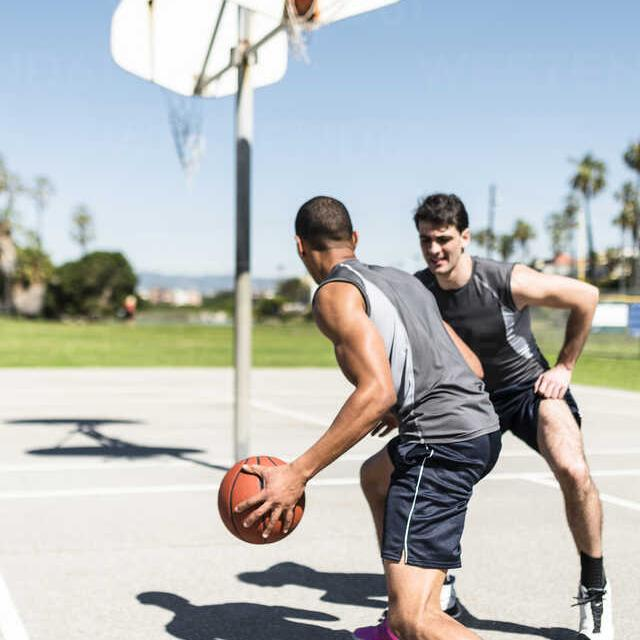basketball: (217, 456, 302, 545)
hoop: (160, 89, 220, 185), (281, 0, 366, 64)
